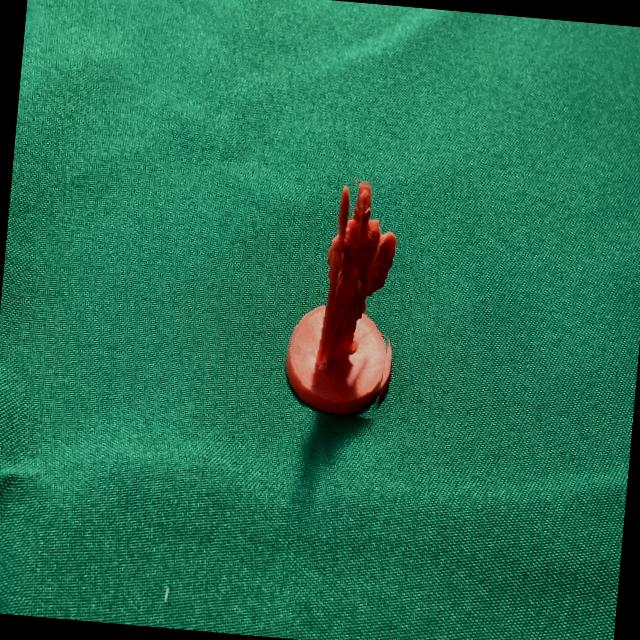amon_follower: (284, 179, 396, 415)
